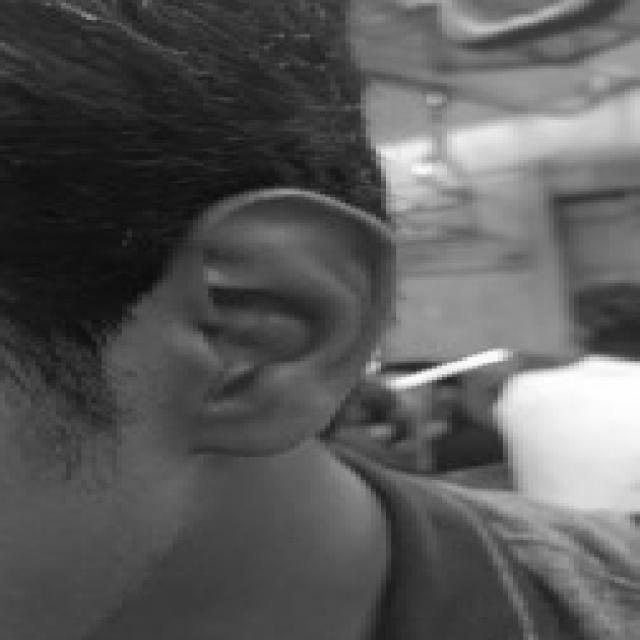ear: (178, 191, 386, 451), (168, 260, 178, 266), (162, 277, 168, 280)
